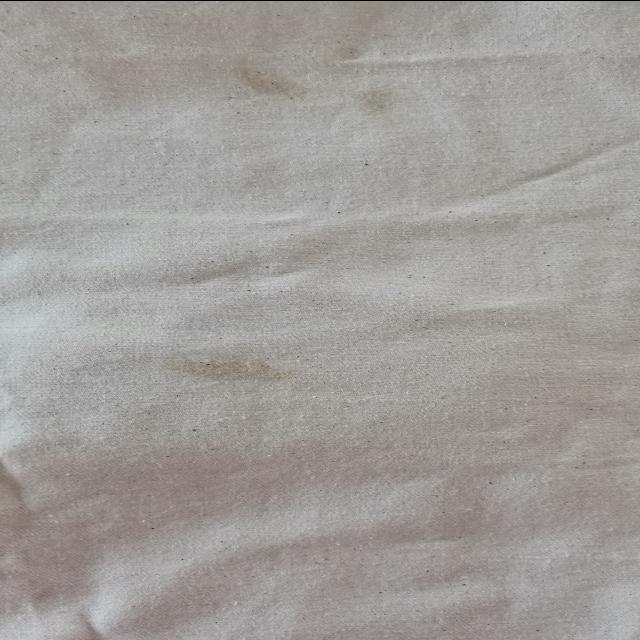taaaches: (152, 345, 296, 384), (205, 61, 315, 102), (355, 82, 403, 114)
